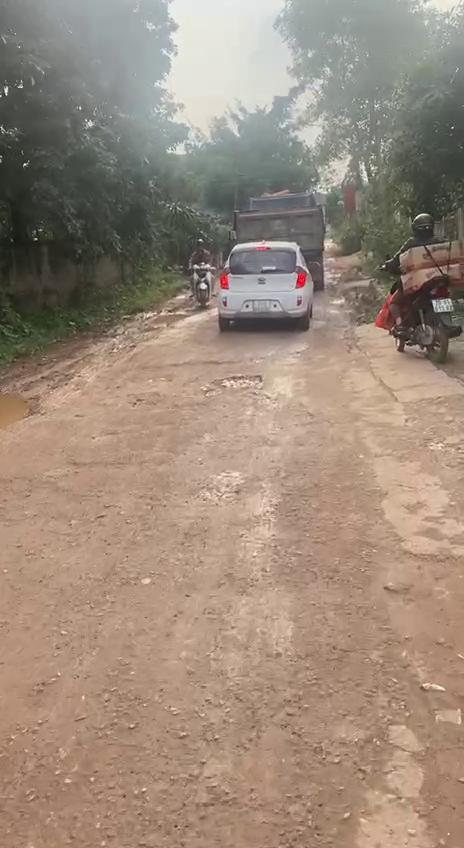pothole: (377, 539, 464, 848), (0, 385, 47, 431), (210, 374, 268, 392)
